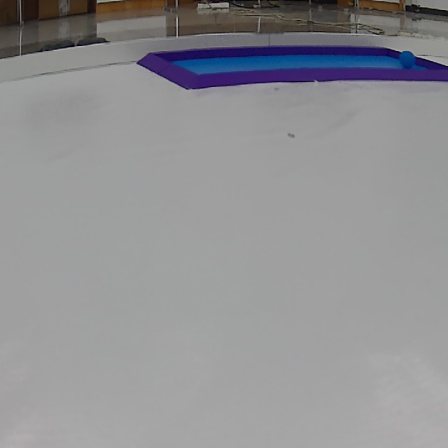blue: (396, 48, 417, 69)
blue_aim: (135, 43, 448, 90)
